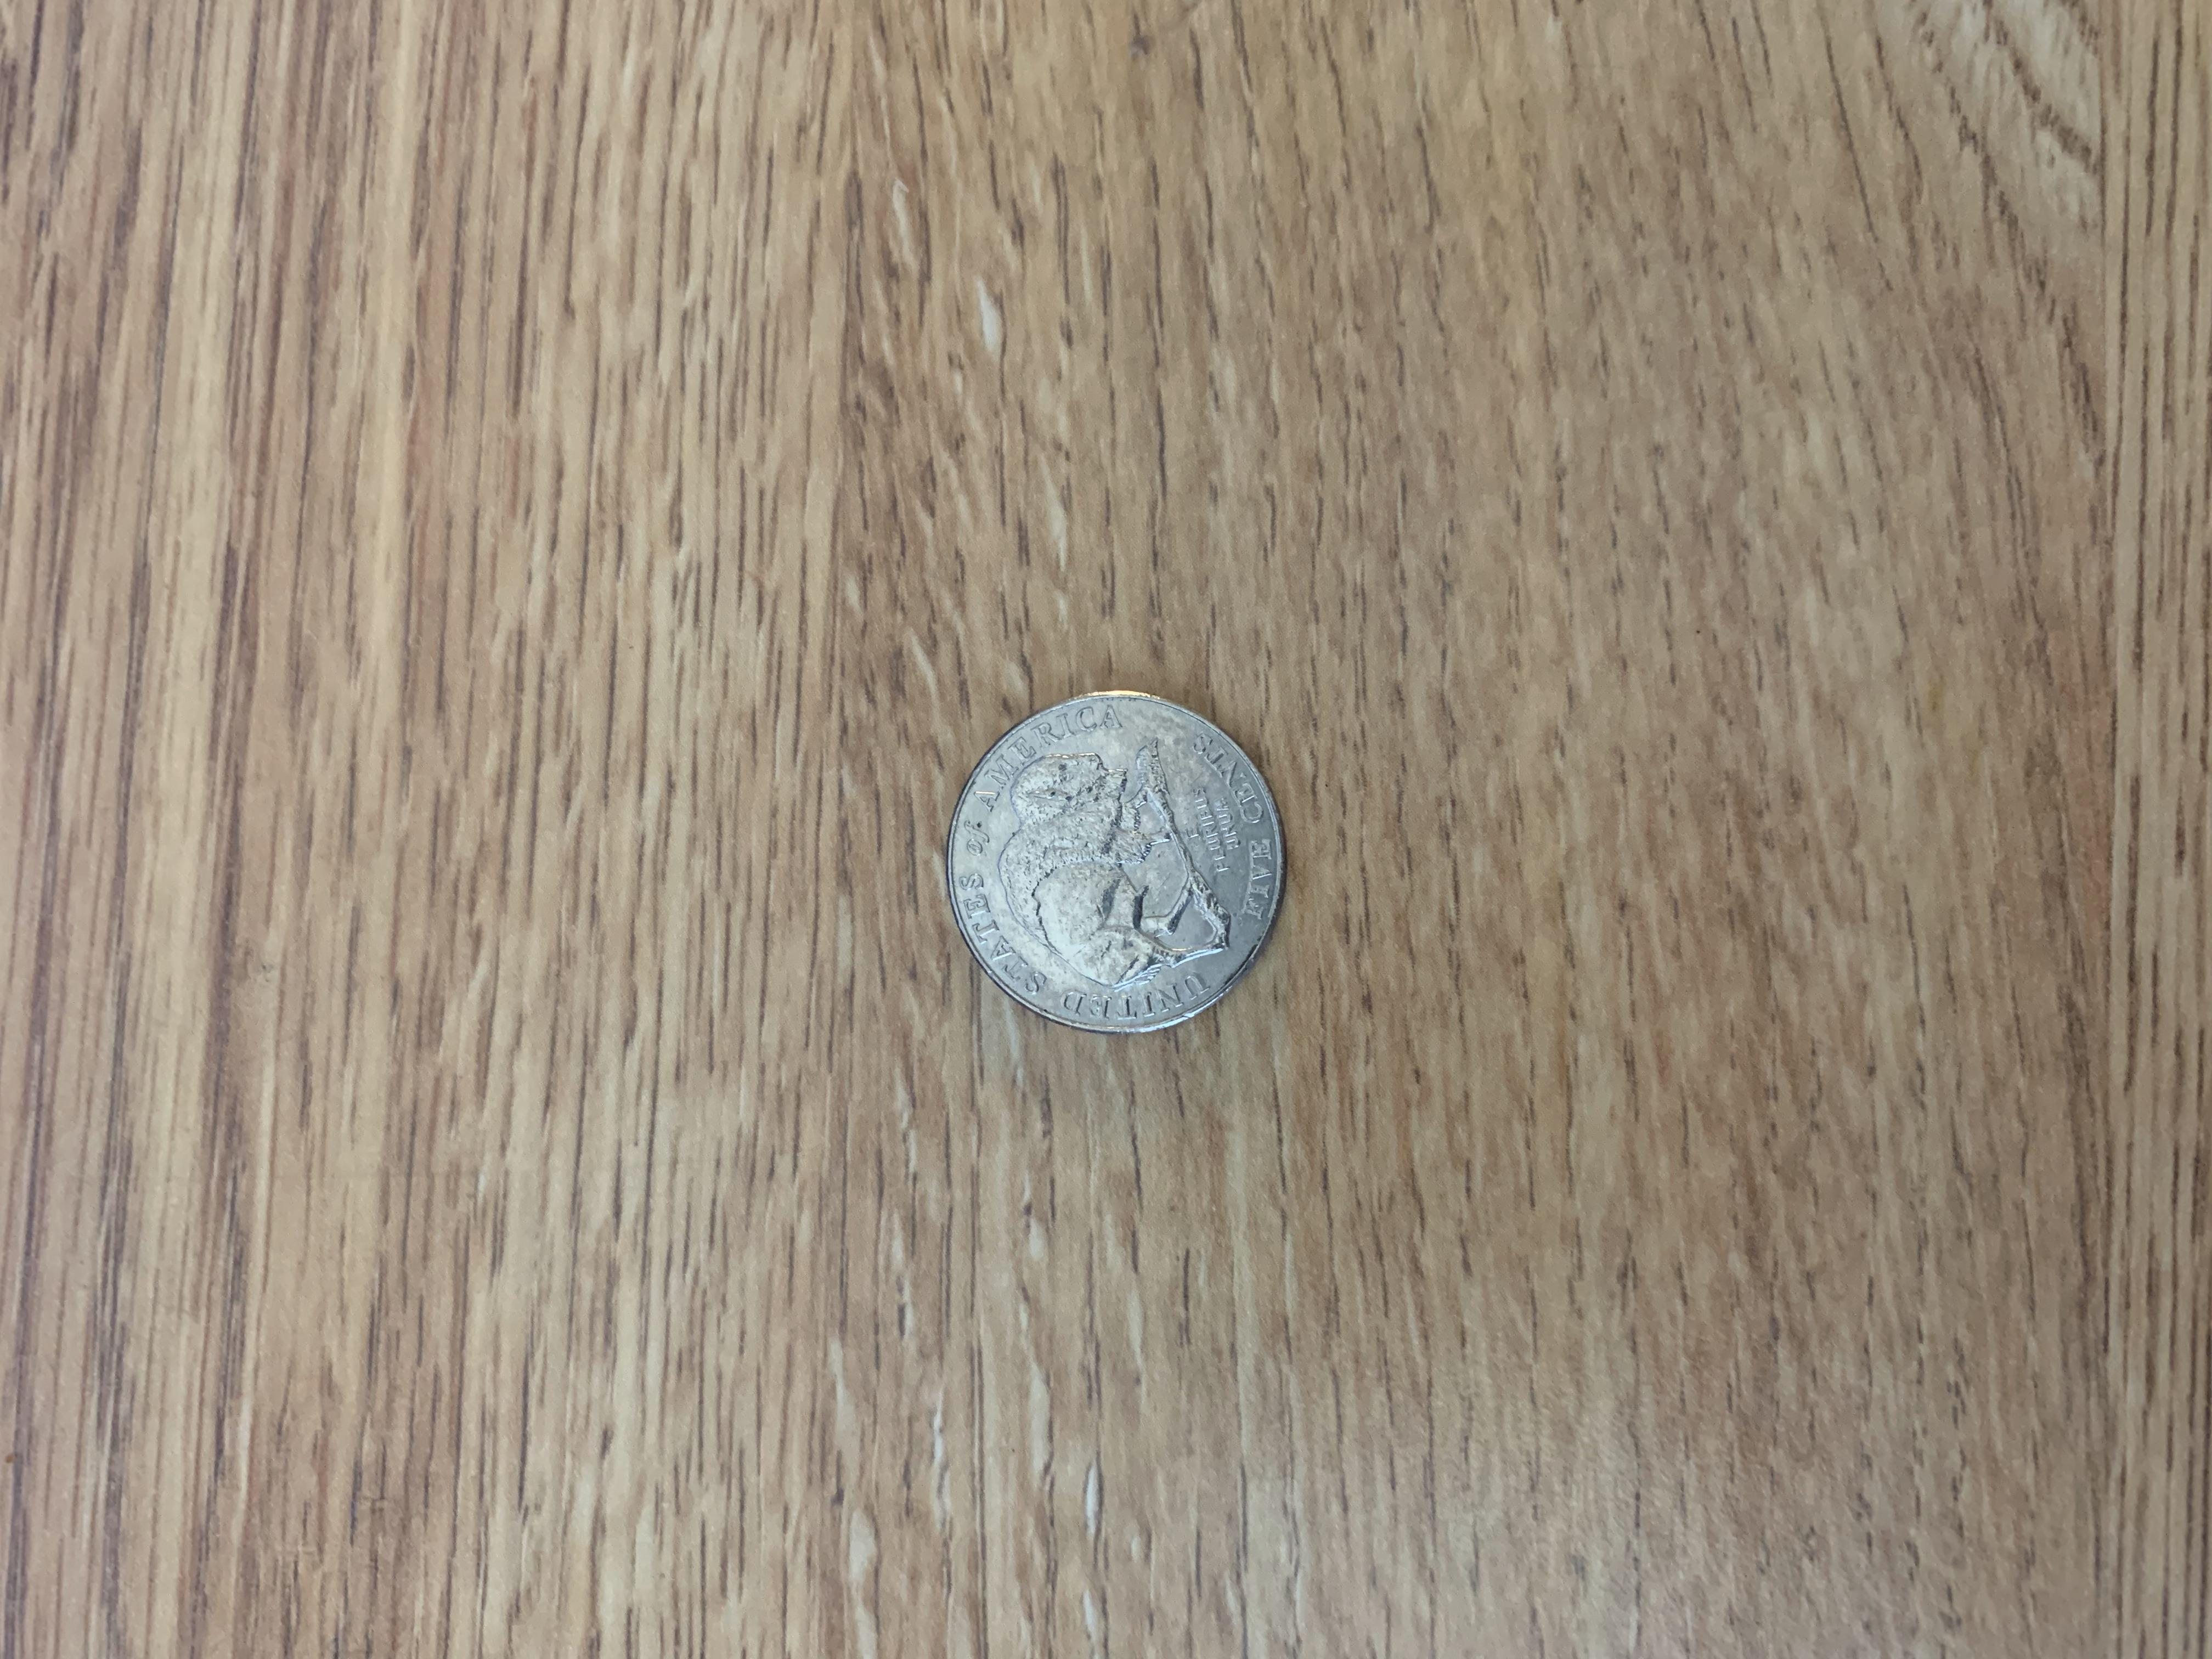Nickel: (939, 683, 1301, 1047)
